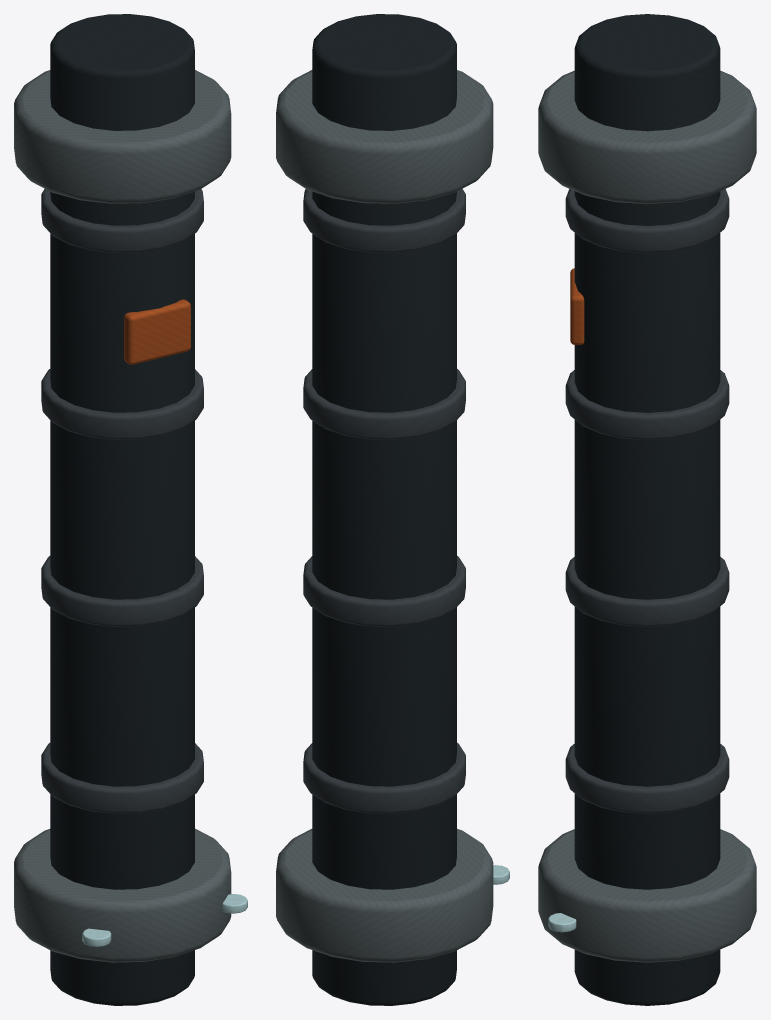
File: PipeSegment.fbx
3 views of the same model, side by side, from view 1: azimuth 30°, elevation 25°; view 2: azimuth 150°, elevation 25°; view 3: azimuth 270°, elevation 25° (orthographic).
Visible parts, largest first — view 1: PipeSegment_Mesh; view 2: PipeSegment_Mesh; view 3: PipeSegment_Mesh.
Boxes of the visible parts, x1,y1,x2,y2 form: PipeSegment_Mesh: [14, 14, 247, 1005]; PipeSegment_Mesh: [276, 14, 509, 1005]; PipeSegment_Mesh: [538, 14, 756, 1005].
Bounding box in the file's own units: 36 × 170 × 36.
